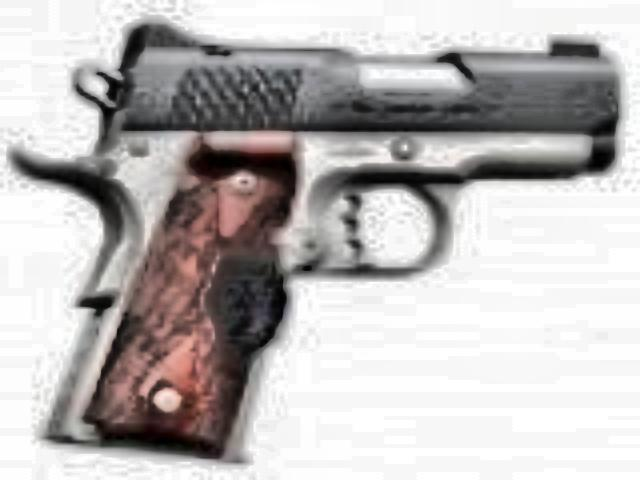pistol: (4, 20, 616, 468)
